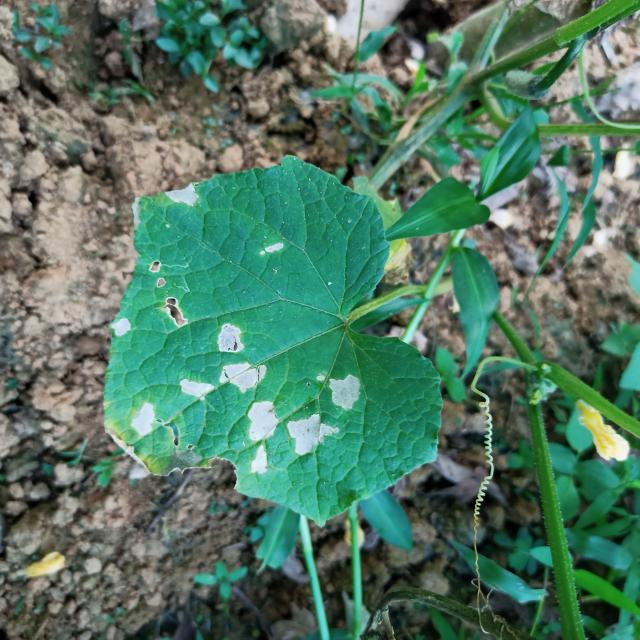disease_cucumber: (215, 318, 267, 392), (148, 258, 189, 325), (245, 398, 279, 476), (313, 365, 364, 412), (286, 412, 341, 454), (177, 373, 217, 401), (163, 182, 201, 210), (129, 400, 157, 435), (255, 241, 290, 255), (112, 316, 133, 339)
